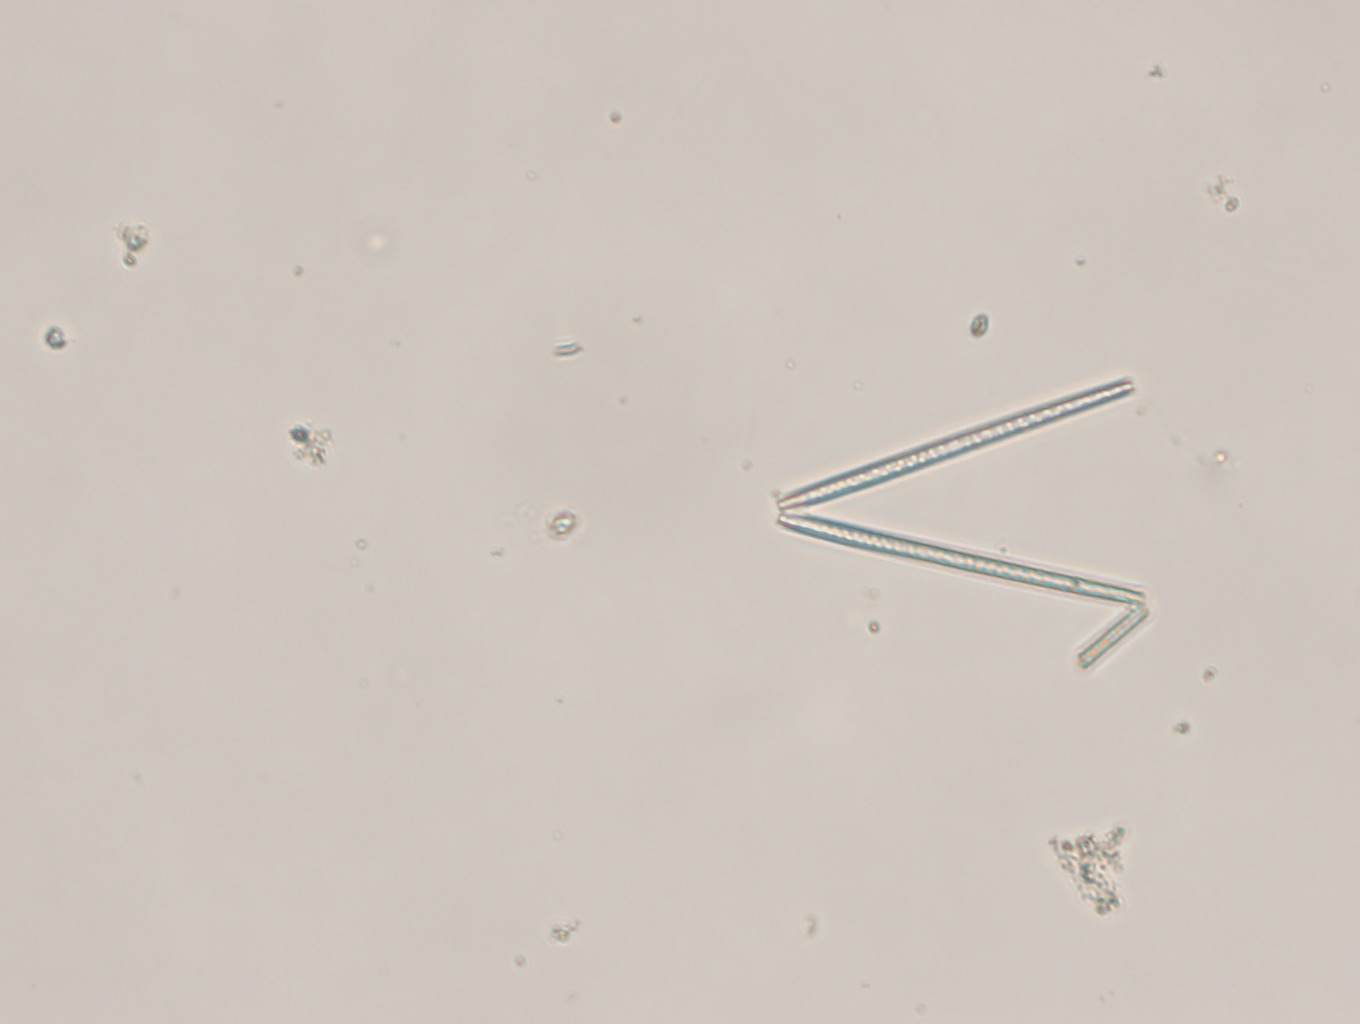thalassionema nitzschioides: (763, 372, 1145, 609)
